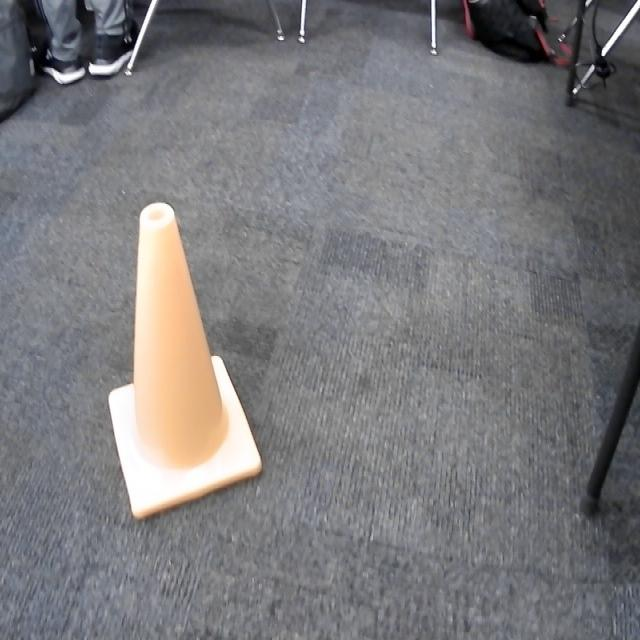cone: (106, 200, 264, 524)
